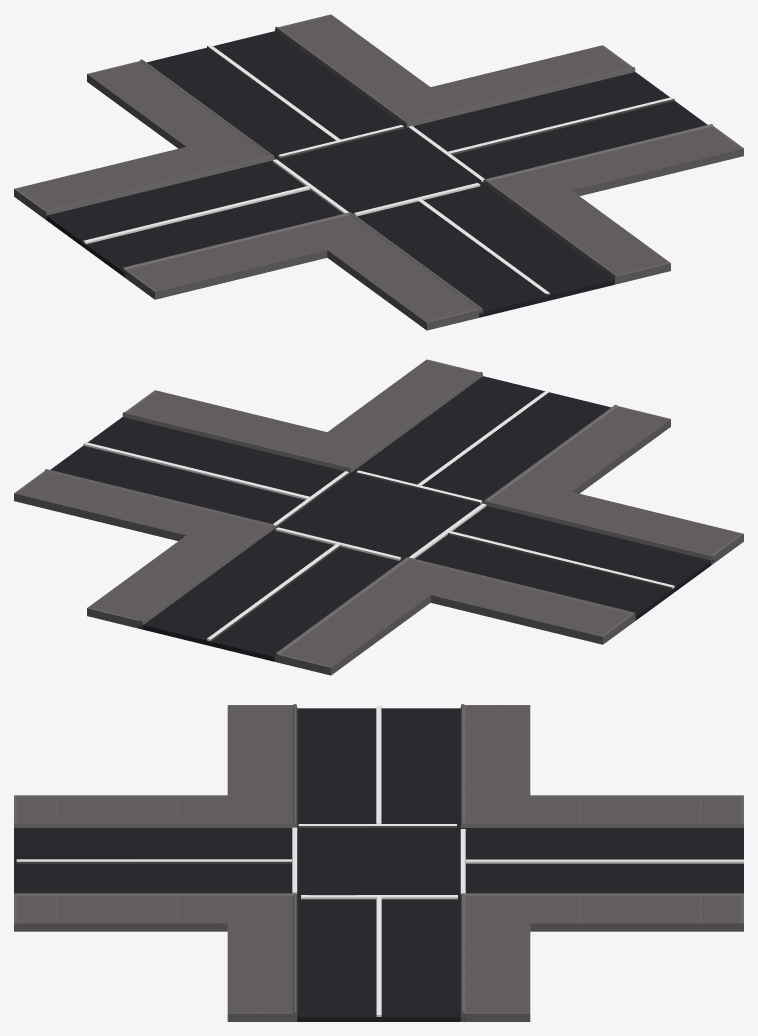
Rendered from Cross road.obj.
3 views of the same model, one above another, from view 1: azimuth 30°, elevation 25°; view 2: azimuth 150°, elevation 25°; view 3: azimuth 270°, elevation 25° (orthographic). The views are drawn at different scales.
Parts seen in each view (by area): view 1: pCube25; view 2: pCube25; view 3: pCube25.
Boxes of the visible parts, <box> form: pCube25: <box>14,14,743,330</box>; pCube25: <box>14,359,743,675</box>; pCube25: <box>14,704,743,1021</box>.
Size of the model in its own units: 13 by 0.1849 by 13.
1 material, 1 textured.
